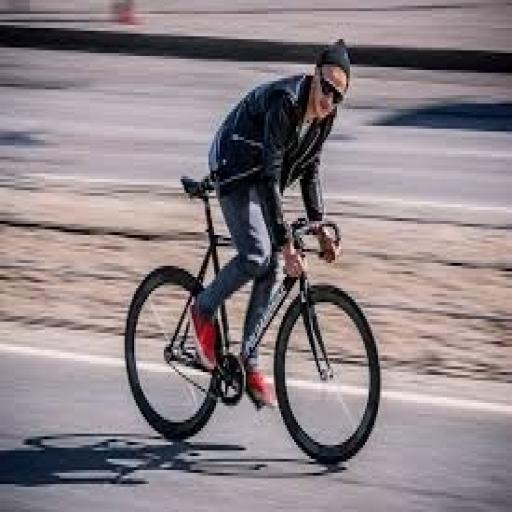cycling: (186, 36, 356, 412)
